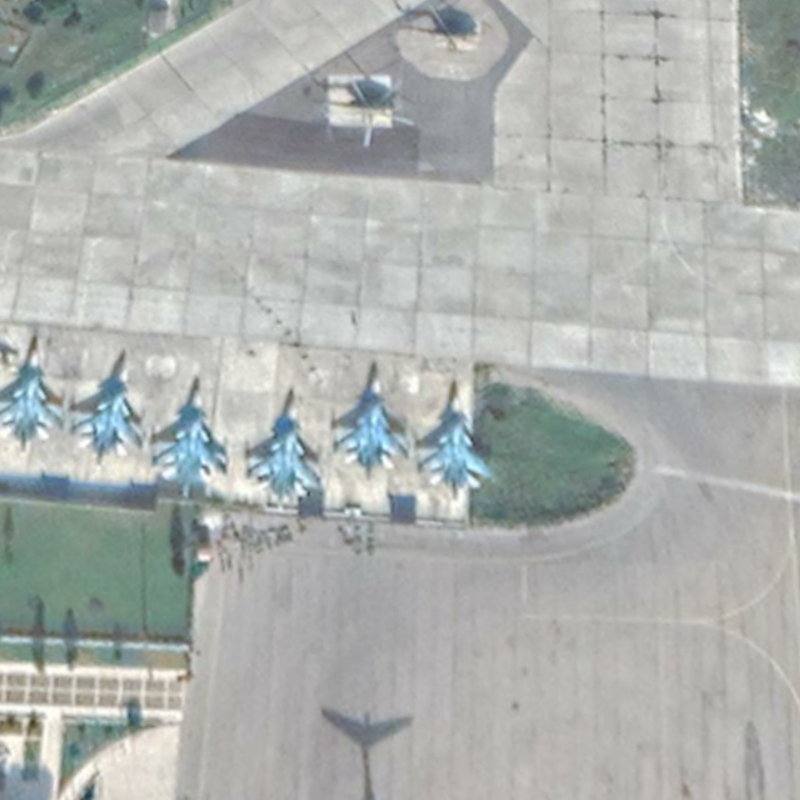A19: (150, 387, 231, 501), (330, 373, 411, 481), (246, 400, 323, 513), (67, 361, 149, 466), (414, 394, 494, 501), (3, 345, 67, 454)
